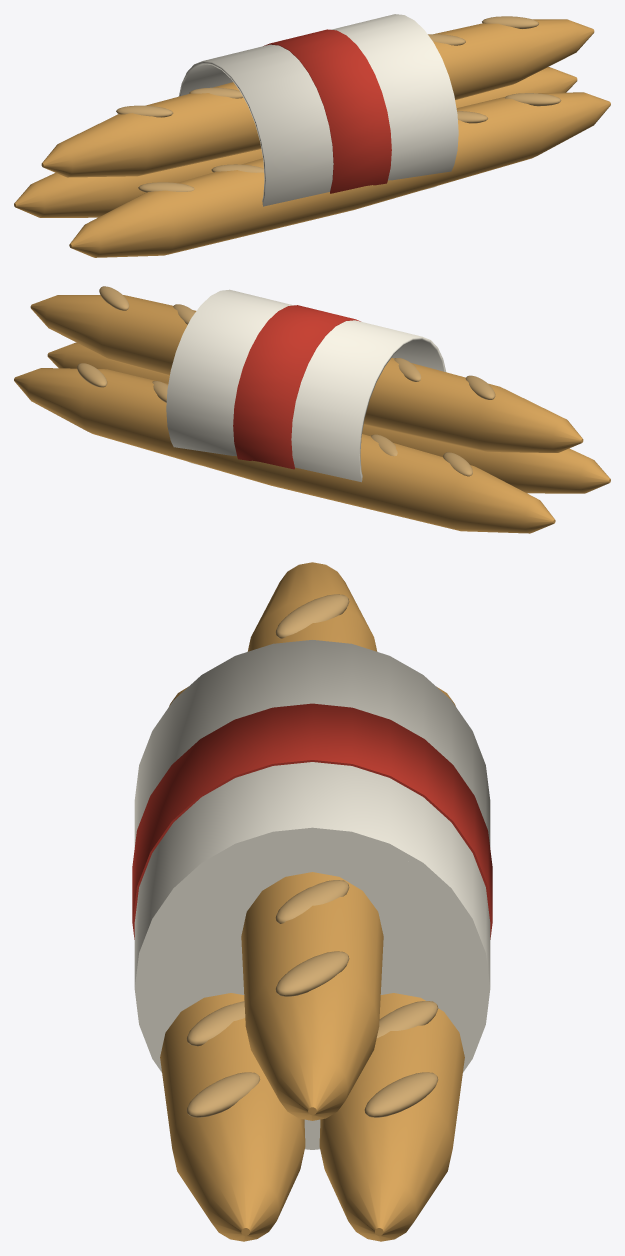
Rendered from baguette.fbx.
3 renders of one model, top to bottom at view 1: azimuth 30°, elevation 25°; view 2: azimuth 150°, elevation 25°; view 3: azimuth 270°, elevation 25°, orthographic. The views are drawn at different scales.
Visible parts, largest first — view 1: Baguette; view 2: Baguette; view 3: Baguette.
Boxes of the visible parts, bbox=[...] form: Baguette: bbox=[14, 14, 610, 257]; Baguette: bbox=[14, 286, 610, 533]; Baguette: bbox=[132, 562, 492, 1241].
Bounding box in the file's own units: 2.86 × 0.81 × 0.81.
